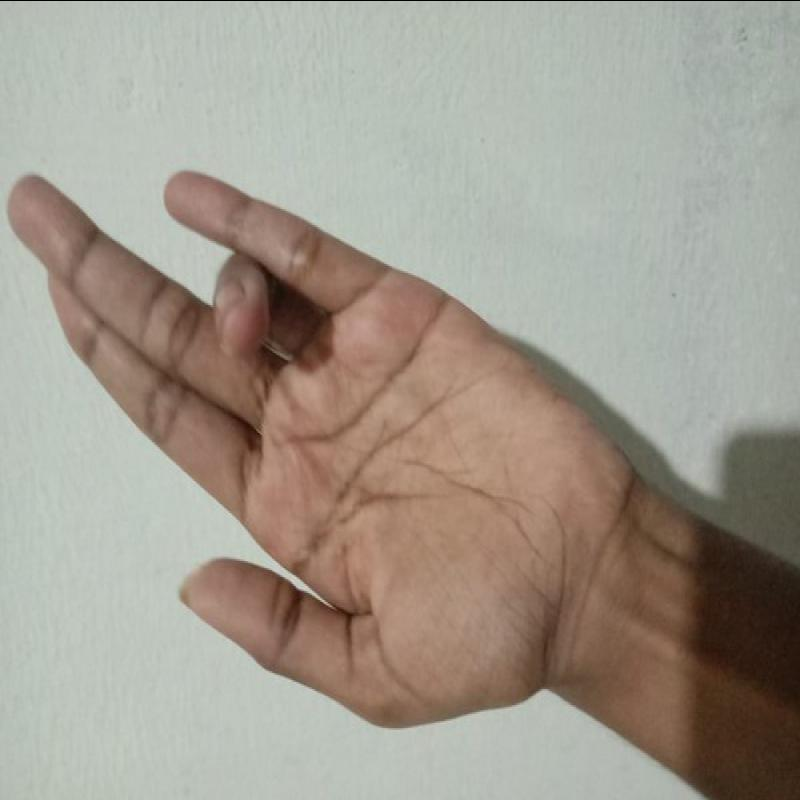Pathaaka: (2, 149, 645, 739)
